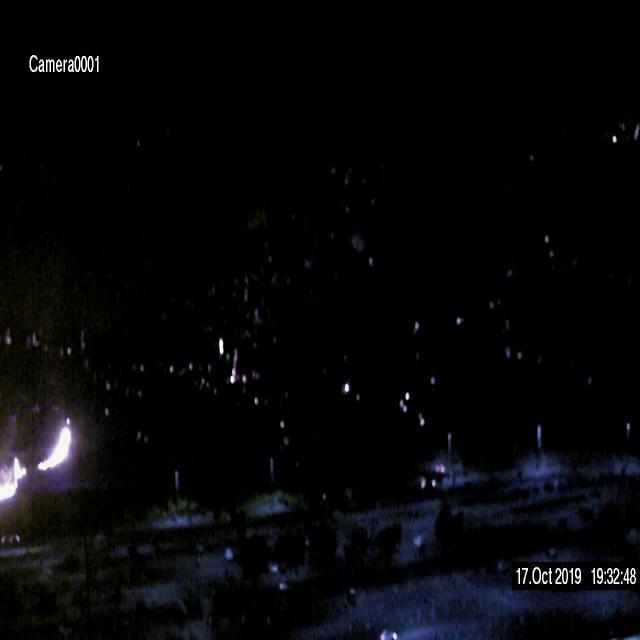Fire: (39, 424, 69, 470), (1, 457, 27, 498)
